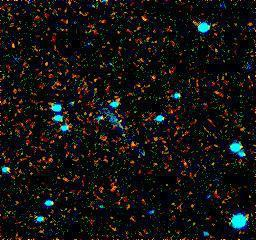star: (117, 130, 147, 160)
